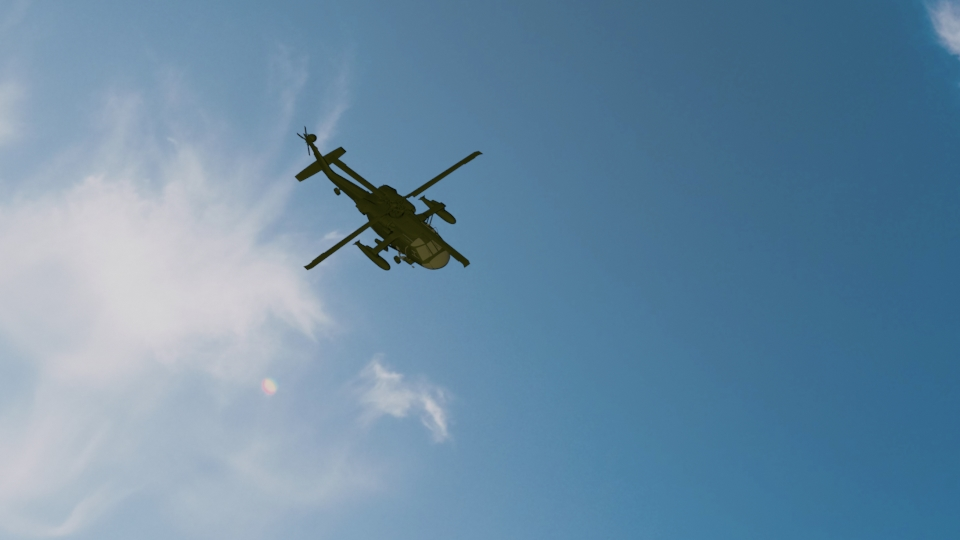heli: (294, 124, 484, 273)
